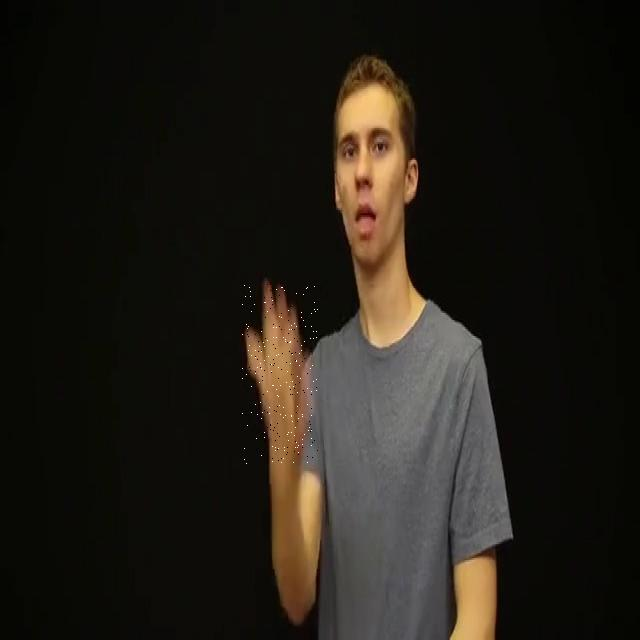spicy: (242, 284, 318, 464)
